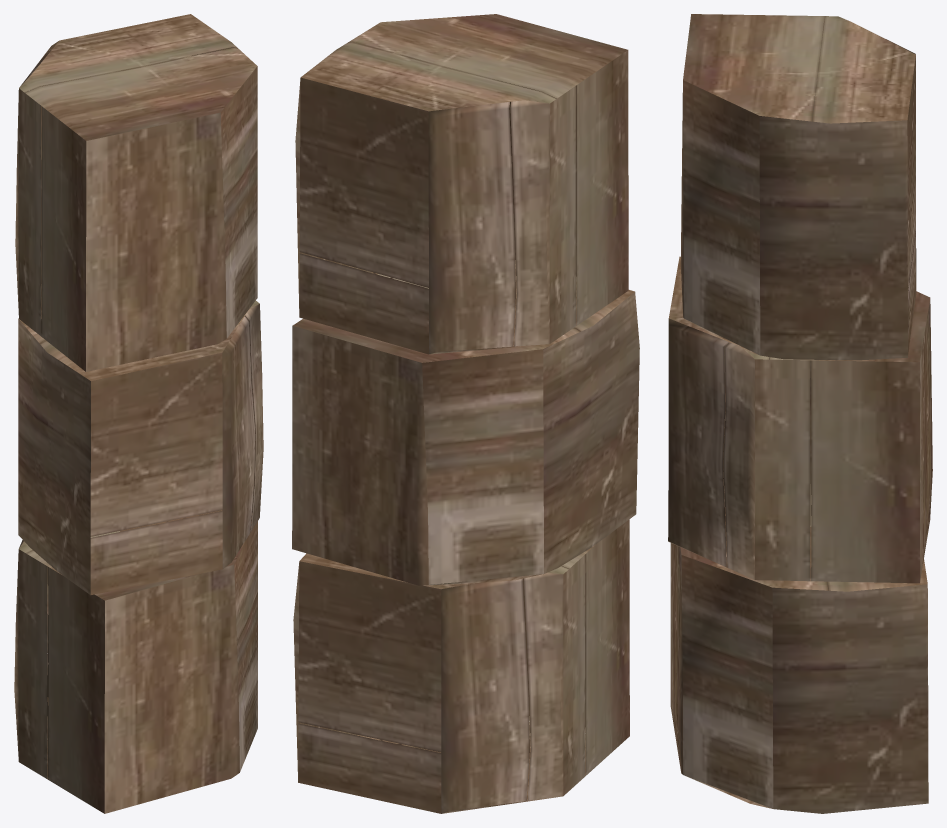
3 renders of one model, left to right at view 1: azimuth 30°, elevation 25°; view 2: azimuth 150°, elevation 25°; view 3: azimuth 270°, elevation 25°, orthographic. The views are drawn at different scales.
Visible parts, largest first — view 1: SM_Greathall_UnderRoof_LOD0; view 2: SM_Greathall_UnderRoof_LOD0; view 3: SM_Greathall_UnderRoof_LOD0.
Part boxes in pixels (x1,y1,x2,y2): SM_Greathall_UnderRoof_LOD0: [14, 14, 263, 813]; SM_Greathall_UnderRoof_LOD0: [292, 14, 639, 813]; SM_Greathall_UnderRoof_LOD0: [668, 14, 932, 813].
Size of the model in its own units: 2.13 by 6.22 by 2.13.
